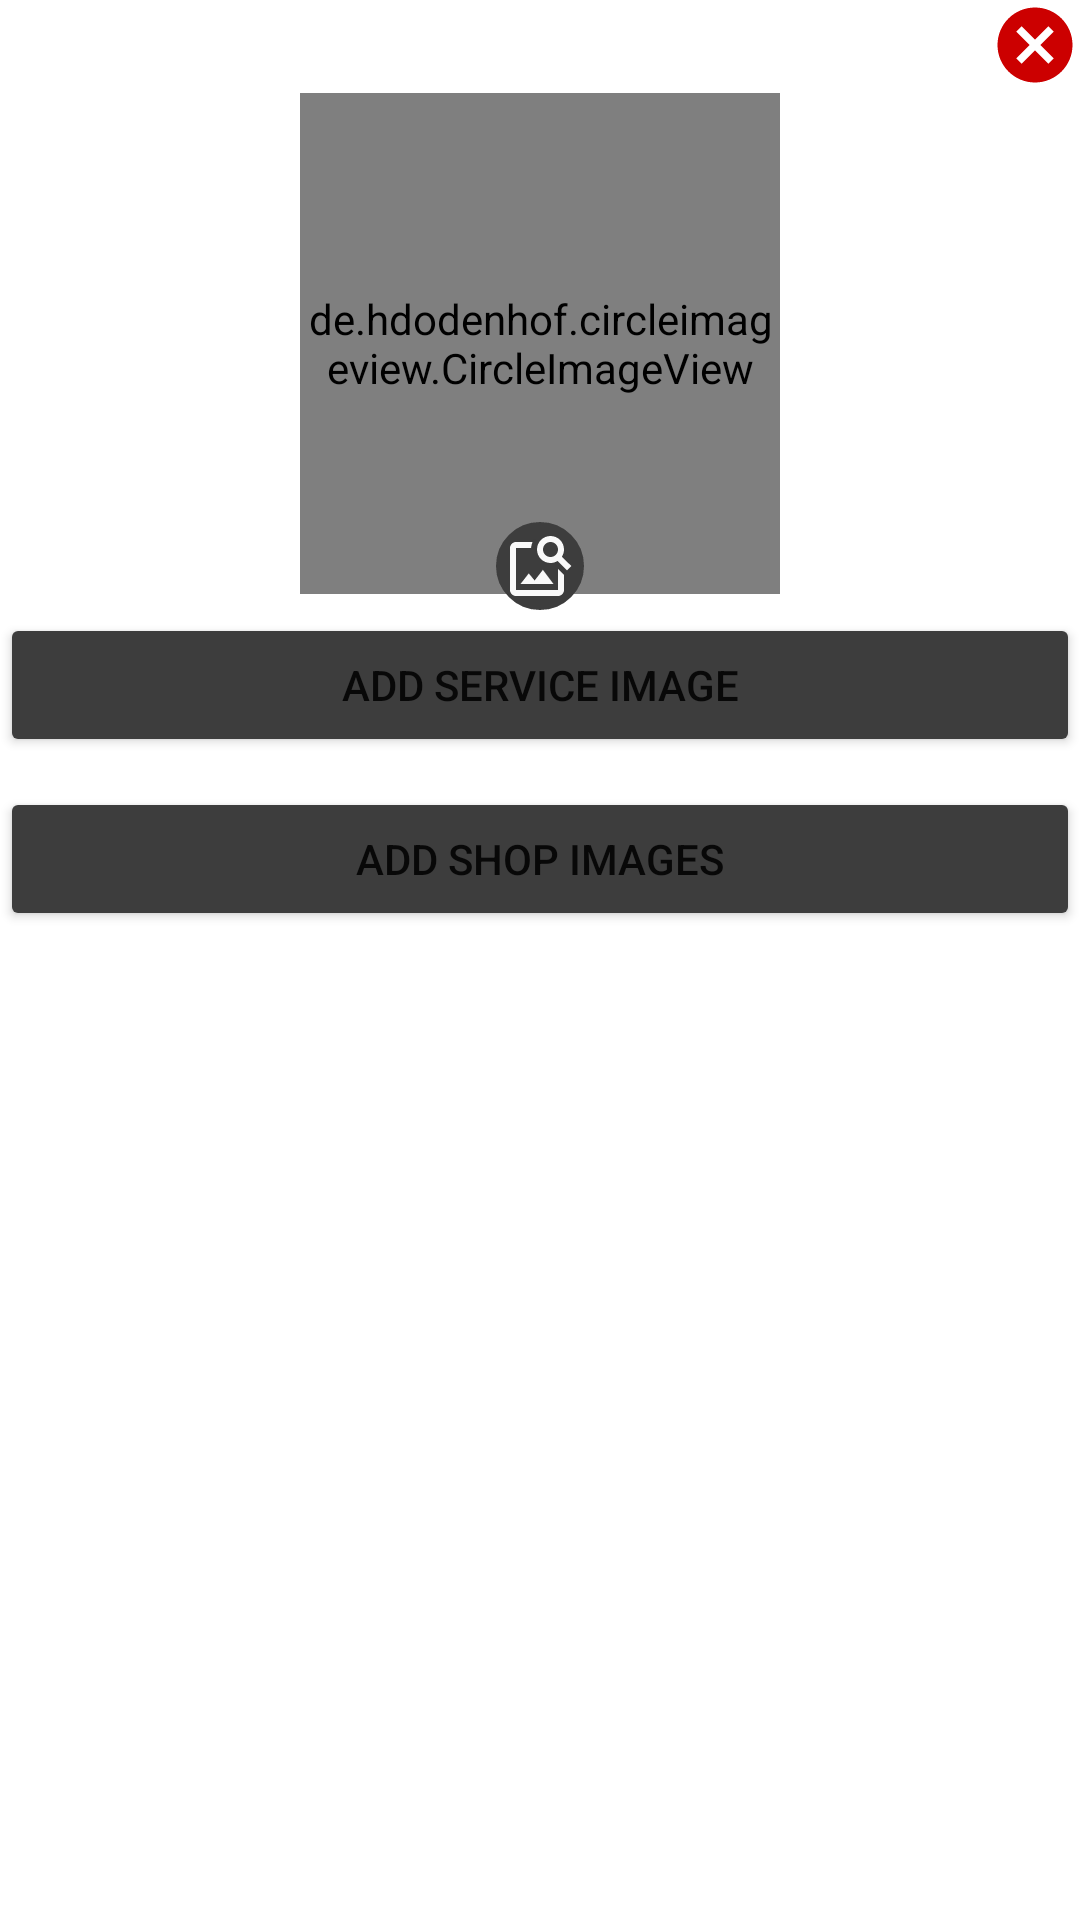

Icons on this 1080w x 1920h Android screen, each with its box as (x1, y1, x2, y2):
cancel: (997, 7, 1073, 83)
search: (496, 522, 584, 610)
